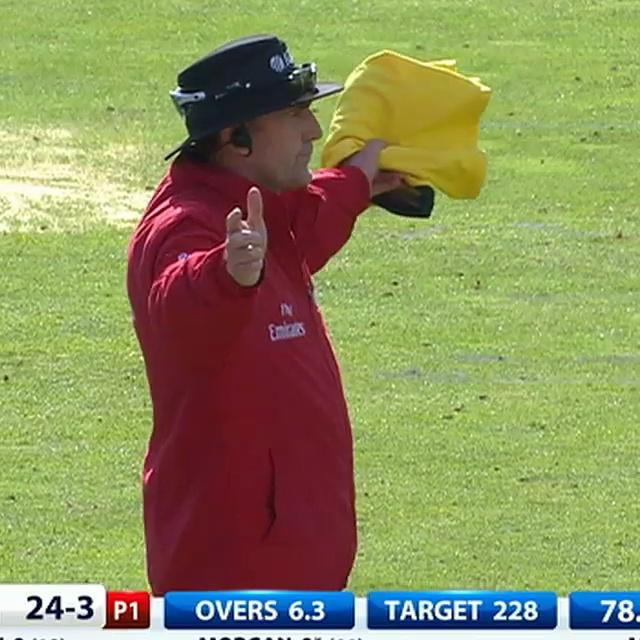umpire: (93, 0, 506, 599)
